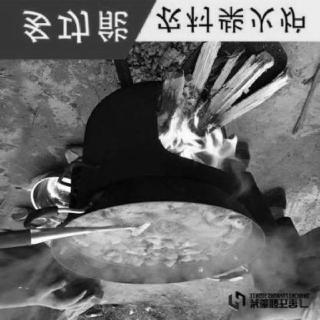Fire: (150, 82, 254, 192)
